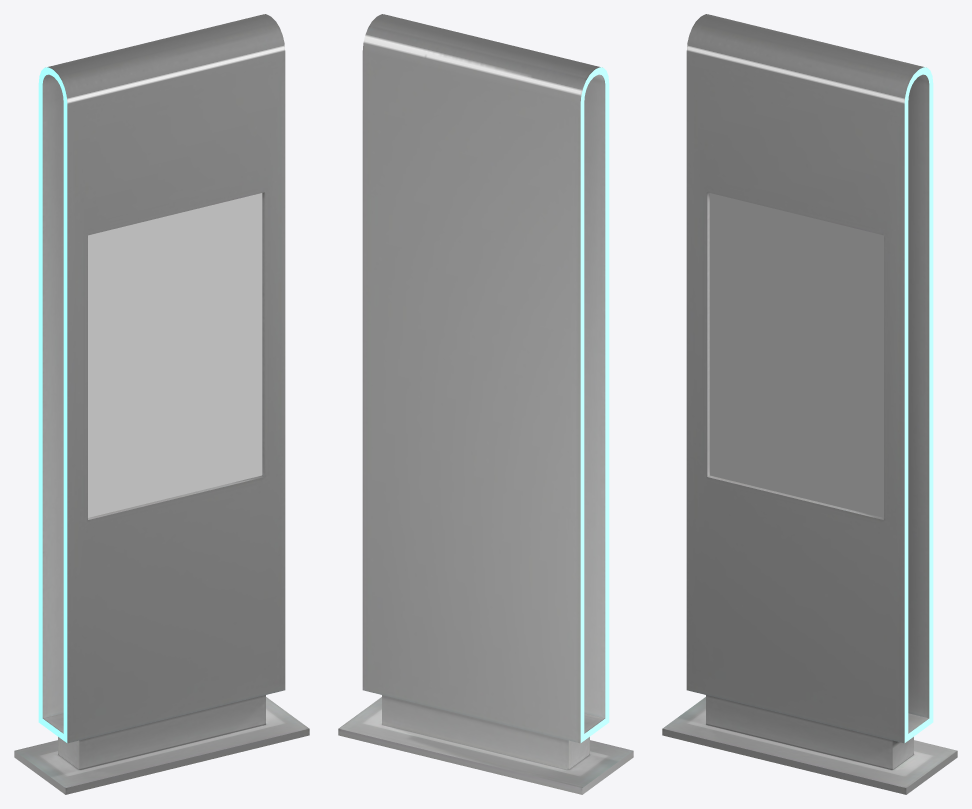
3 views of the same model, side by side, from view 1: azimuth 30°, elevation 25°; view 2: azimuth 150°, elevation 25°; view 3: azimuth 330°, elevation 25° (orthographic).
Parts seen in each view (by area): view 1: Cube.002, Flat_08011727, Cube.003; view 2: Cube.002, Cube.003; view 3: Cube.002, Flat_08011727, Cube.003.
Boxes of the visible parts, x1,y1,x2,y2 form: Cube.002: (14,14,309,794); Flat_08011727: (88,193,262,517); Cube.003: (38,67,67,742); Cube.002: (338,14,633,794); Cube.003: (580,67,609,742); Cube.002: (662,14,957,794); Flat_08011727: (709,193,883,517); Cube.003: (904,67,933,742).
Bounding box in the file's own units: 0.7492 × 2.06 × 0.2724.
3 materials, 1 textured.
